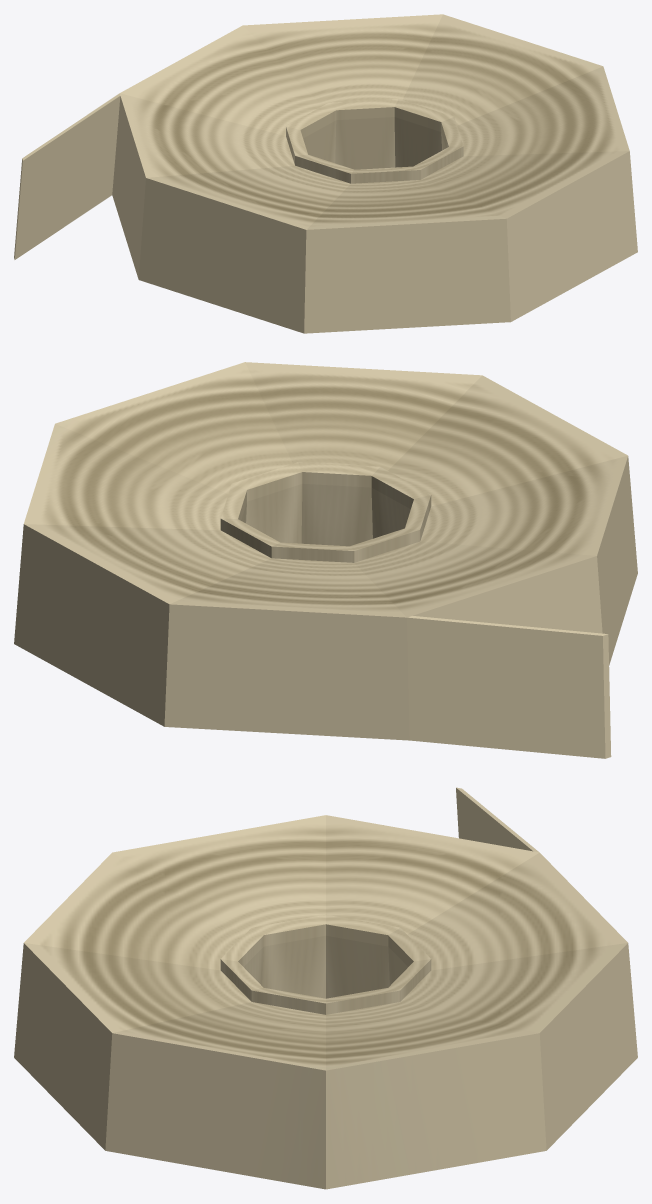
The model's file is tape.fbx.
3 views of the same model, one above another, from view 1: azimuth 30°, elevation 25°; view 2: azimuth 150°, elevation 25°; view 3: azimuth 270°, elevation 25° (orthographic). The views are drawn at different scales.
Parts seen in each view (by area): view 1: pCylinder2; view 2: pCylinder2; view 3: pCylinder2.
Part boxes in pixels (x1,y1,x2,y2): pCylinder2: (14, 14, 637, 333); pCylinder2: (14, 362, 637, 758); pCylinder2: (14, 787, 637, 1189).
Size of the model in its own units: 0.1952 by 0.0377 by 0.1718.
Materials: 1 (1 with a texture image).
